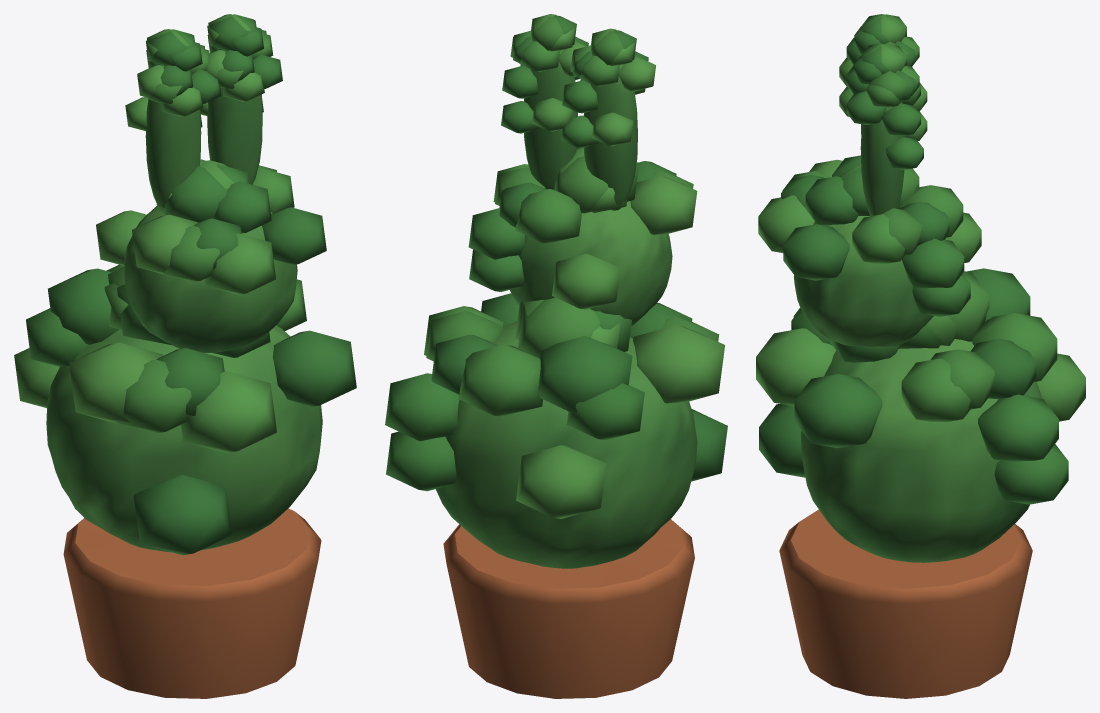
The model's file is furn_dp_topiary.glb.
The picture shows the model from 3 angles, left to right: view 1: azimuth 30°, elevation 25°; view 2: azimuth 150°, elevation 25°; view 3: azimuth 270°, elevation 25°; orthographic projection. The views are drawn at different scales.
Parts seen in each view (by area): view 1: furn_dp_topiary_main; view 2: furn_dp_topiary_main; view 3: furn_dp_topiary_main.
Part boxes in pixels (x1,y1,x2,y2): furn_dp_topiary_main: [14, 14, 356, 698]; furn_dp_topiary_main: [385, 14, 727, 698]; furn_dp_topiary_main: [756, 14, 1085, 698].
Size of the model in its own units: 0.5108 by 1.2 by 0.5721.
